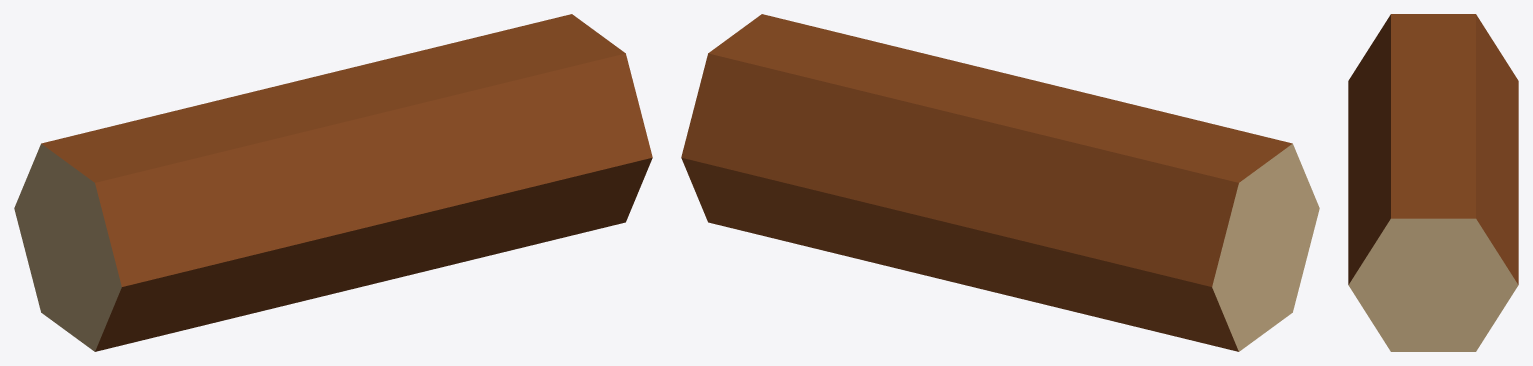
The model's file is tree_log.fbx.
The picture shows the model from 3 angles, left to right: view 1: azimuth 30°, elevation 25°; view 2: azimuth 150°, elevation 25°; view 3: azimuth 270°, elevation 25°; orthographic projection. The views are drawn at different scales.
Parts seen in each view (by area): view 1: tree_log; view 2: tree_log; view 3: tree_log.
Part boxes in pixels (left/top/right/bottom): tree_log: left=14, top=14, right=652, bottom=351; tree_log: left=681, top=14, right=1319, bottom=351; tree_log: left=1348, top=14, right=1518, bottom=351.
Size of the model in its own units: 104 by 31.77 by 36.69.
